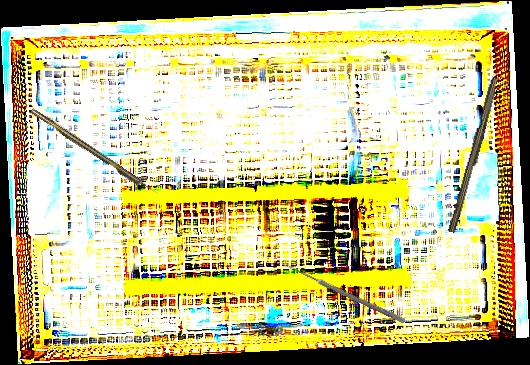Hook Surgical: (29, 107, 160, 198)
Scalpel Handle: (447, 75, 502, 235)
Surgical Spoon: (280, 260, 406, 324)
